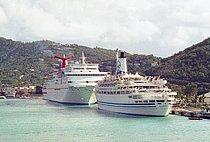Ship: (96, 69, 177, 119), (45, 57, 103, 108)
